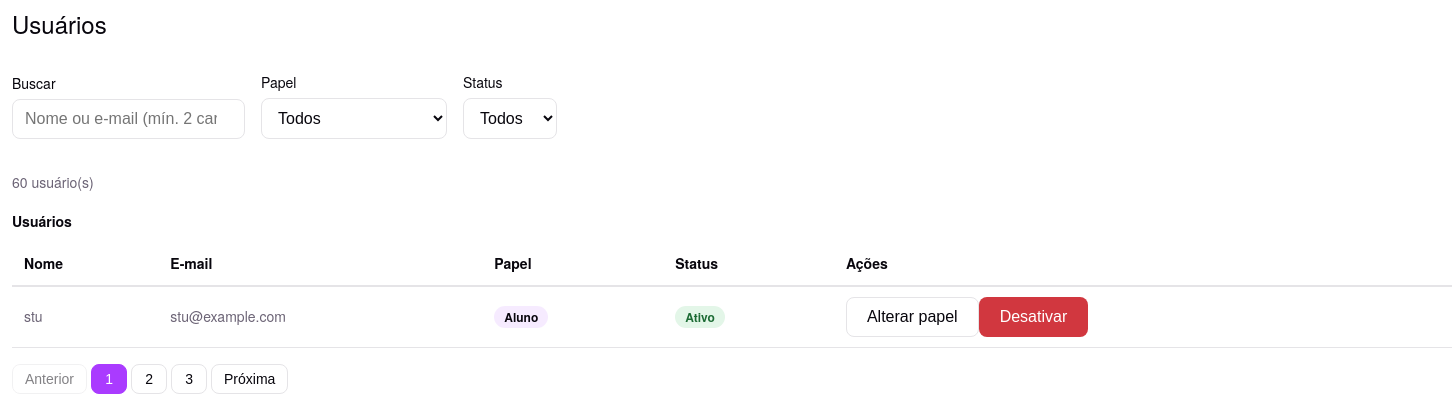
Test: AdminUsersPage › shows previous rows as busy with disabled actions while the next page loads
Expected: the text "stu@example.com" is shown, 170,306 -> 286,326
Click the button "Próxima".
click(250, 379)  # box 211,364 -> 288,394
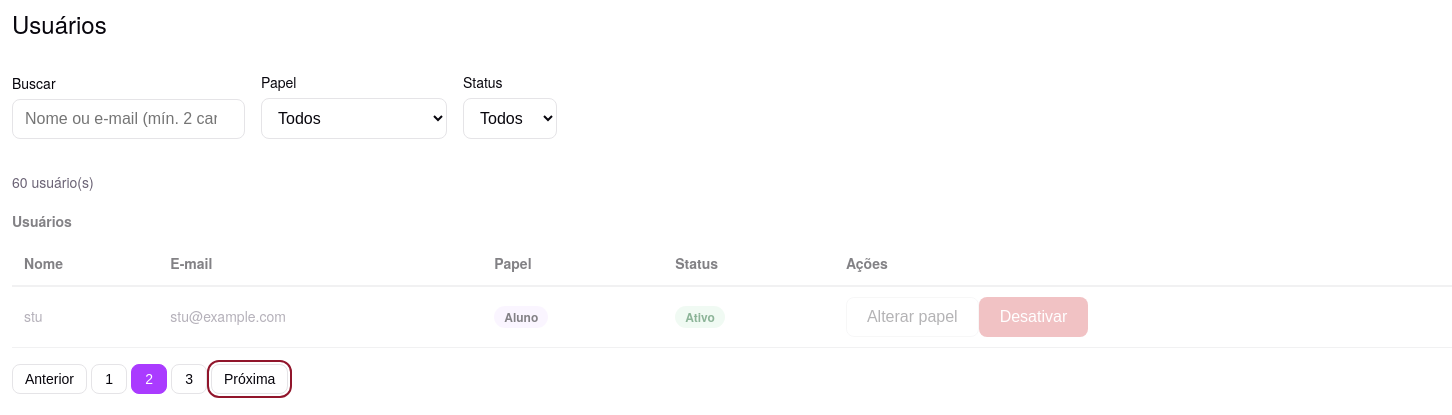
Expected: the button with aria-label "Alterar papel de stu@example.com" is disabled, 846,297 -> 979,337
